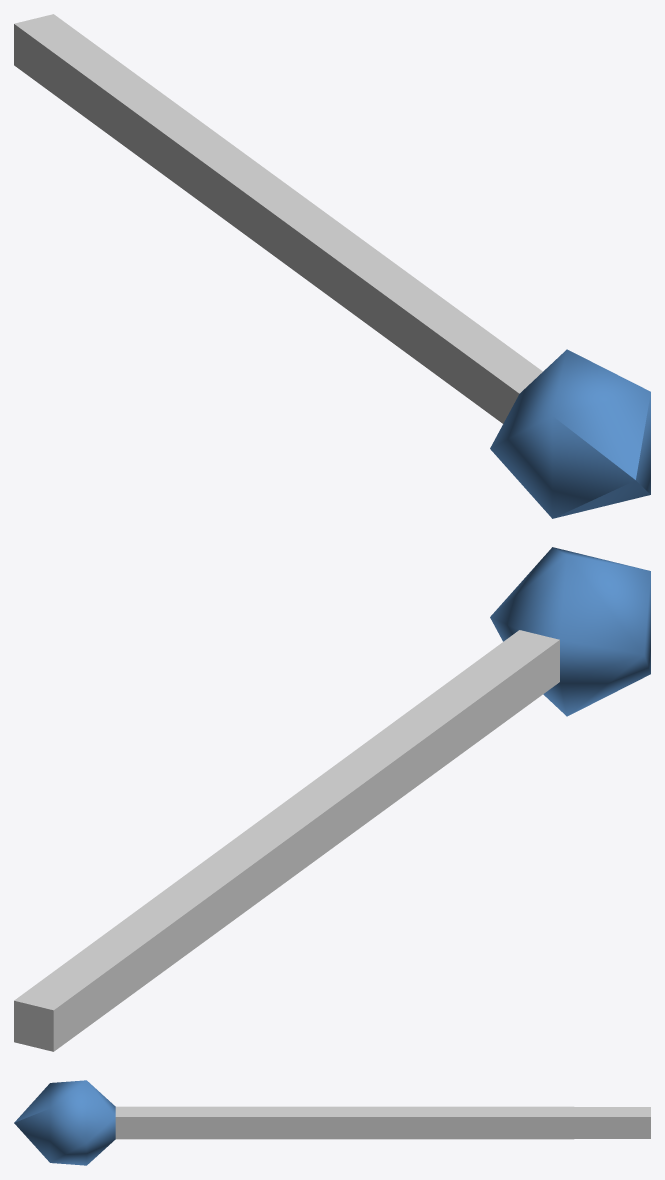
The model's file is Staff.fbx.
3 renders of one model, top to bottom at view 1: azimuth 30°, elevation 25°; view 2: azimuth 150°, elevation 25°; view 3: azimuth 270°, elevation 25°, orthographic. The views are drawn at different scales.
Visible parts, largest first — view 1: Staff, Orb; view 2: Staff, Orb; view 3: Staff, Orb.
Part boxes in pixels (x1,y1,x2,y2): Staff: (14,14,542,423); Orb: (490,349,650,518); Staff: (14,630,559,1051); Orb: (490,547,650,716); Staff: (115,1106,650,1139); Orb: (14,1080,115,1165).
Size of the model in its own units: 27.53 by 27.53 by 186.
